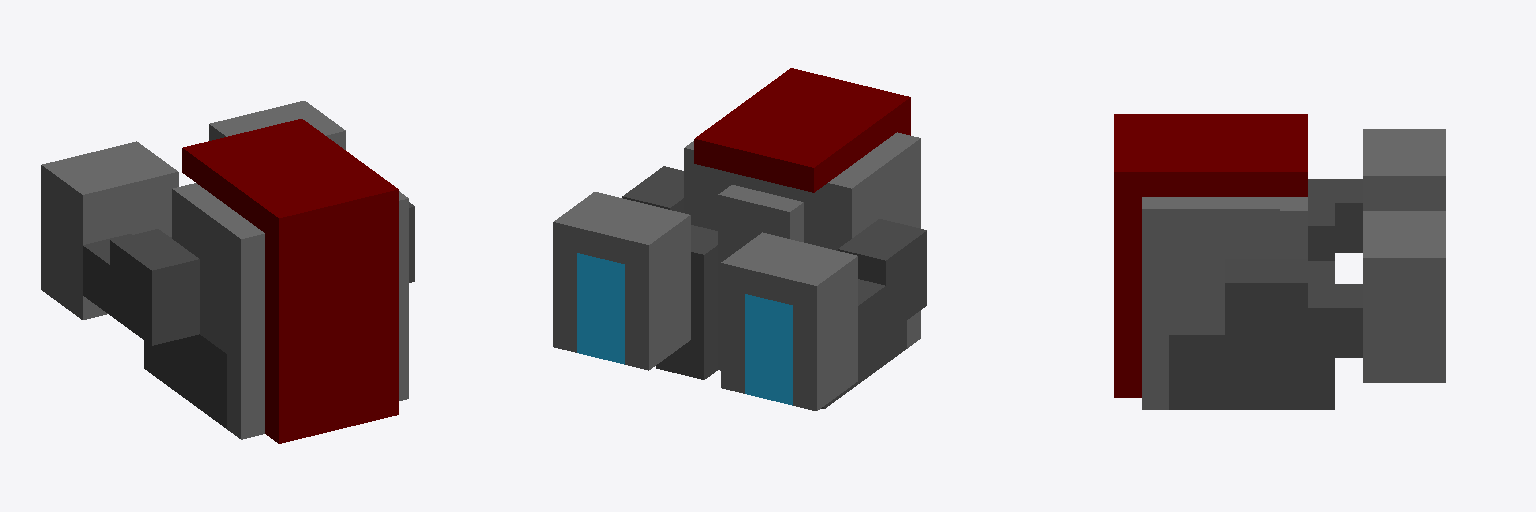
3 views of the same model, side by side, from view 1: azimuth 30°, elevation 25°; view 2: azimuth 150°, elevation 25°; view 3: azimuth 270°, elevation 25° (orthographic).
Bounding box in the file's own units: 11 × 9 × 12.
Materials: 1 (1 with a texture image).